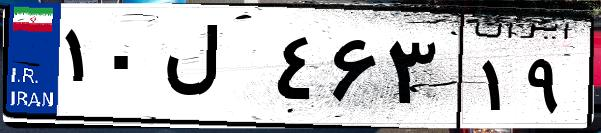0: (110, 28, 158, 98)
1: (57, 26, 110, 100), (475, 38, 525, 113)
3: (385, 28, 445, 110)
4: (270, 28, 330, 110)
6: (330, 28, 385, 110)
9: (525, 38, 570, 115)
ل: (158, 20, 270, 120)
